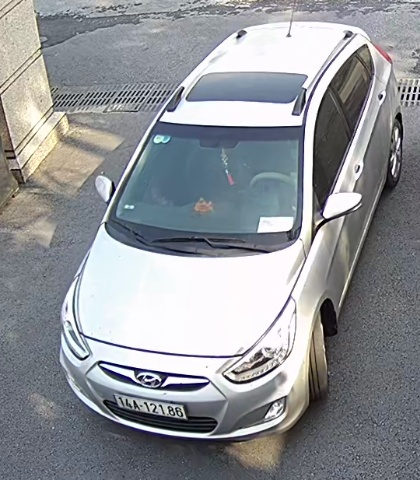vehicle plate: (109, 383, 201, 428)
